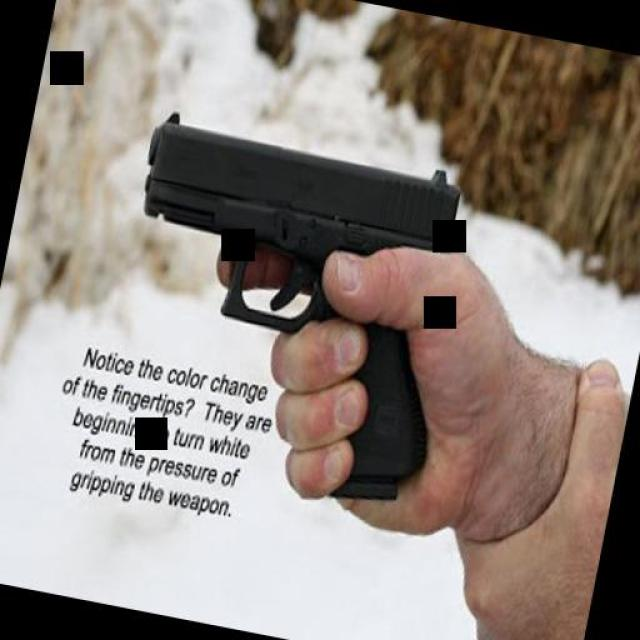gun: (88, 104, 478, 506)
